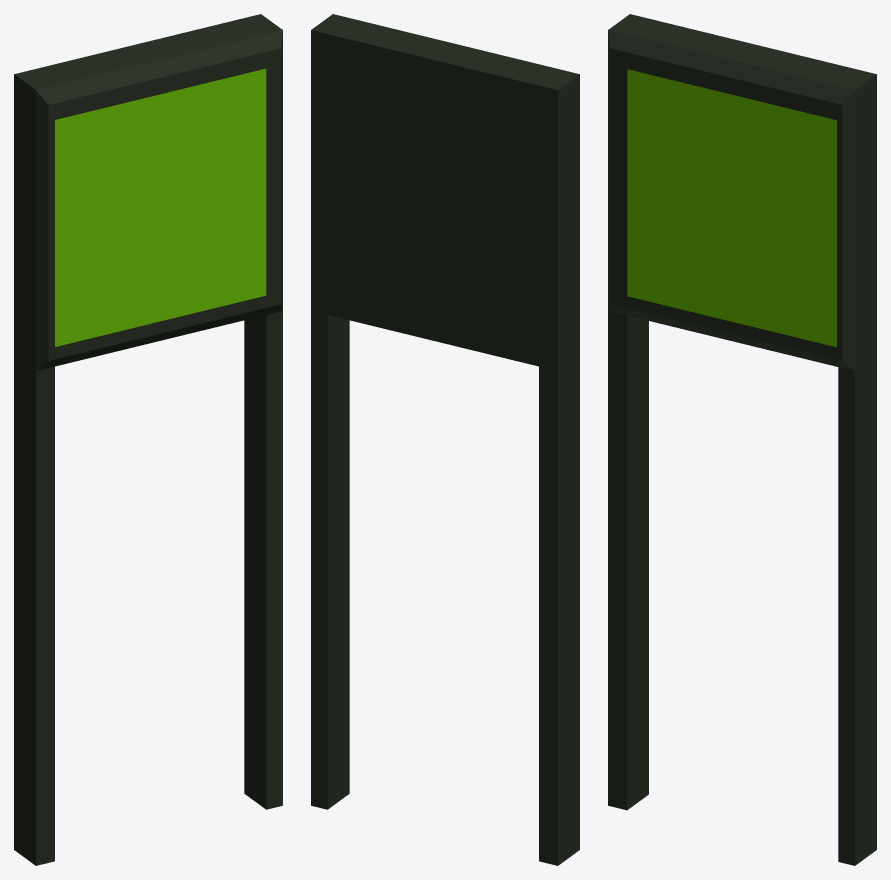
File: Poster2.fbx
3 renders of one model, left to right at view 1: azimuth 30°, elevation 25°; view 2: azimuth 150°, elevation 25°; view 3: azimuth 330°, elevation 25°, orthographic.
Visible parts, largest first — view 1: Poster2; view 2: Poster2; view 3: Poster2.
Boxes of the visible parts, x1=… form: Poster2: x1=14, y1=14, x2=282, y2=865; Poster2: x1=311, y1=14, x2=579, y2=865; Poster2: x1=608, y1=14, x2=876, y2=865.
Size of the model in its own units: 54.1 by 162 by 10.39.
